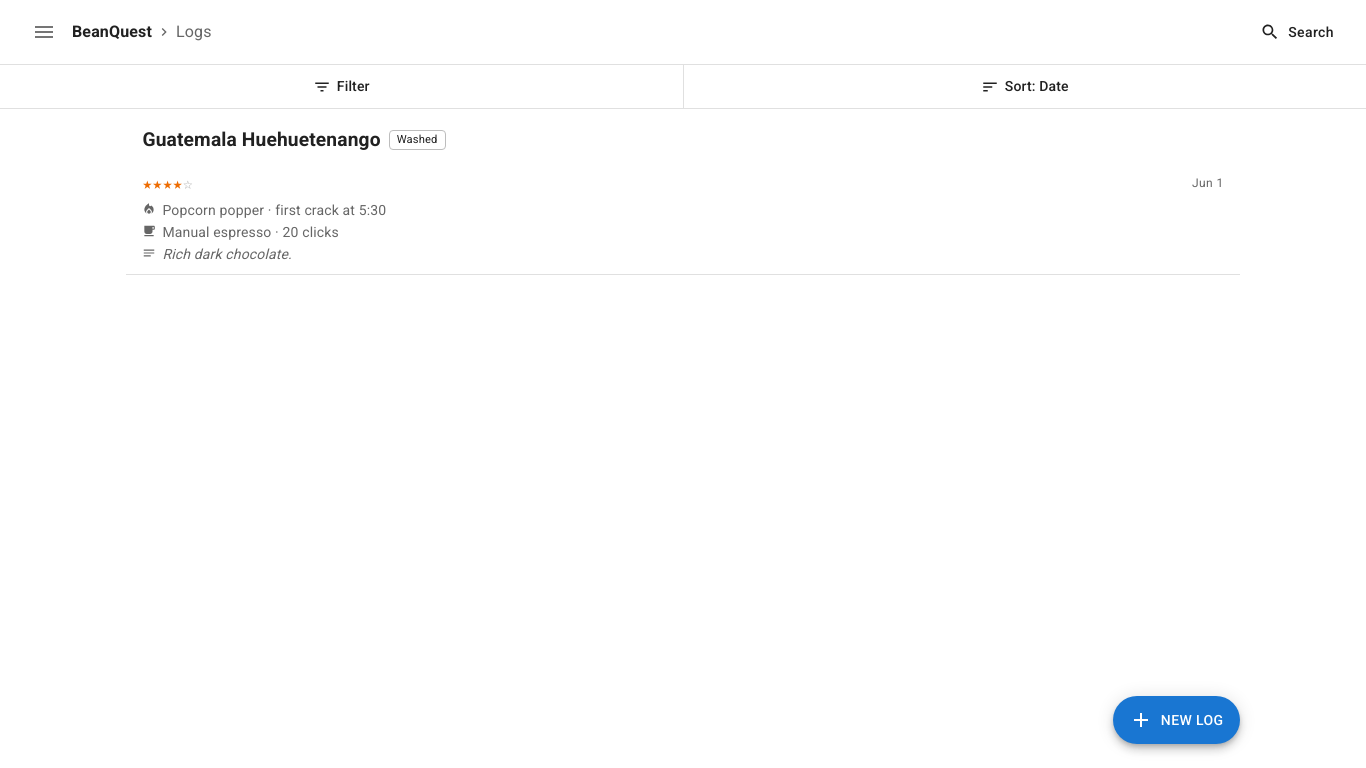
Test: LogsPage › creates a log via the form and shows it in the list
Expected: the heading "Guatemala Huehuetenango" is shown, top-left (142, 125), bottom-right (381, 156)
Click the button labelled "New log". click: (1176, 720)
box: top-left (1113, 696), bottom-right (1240, 744)
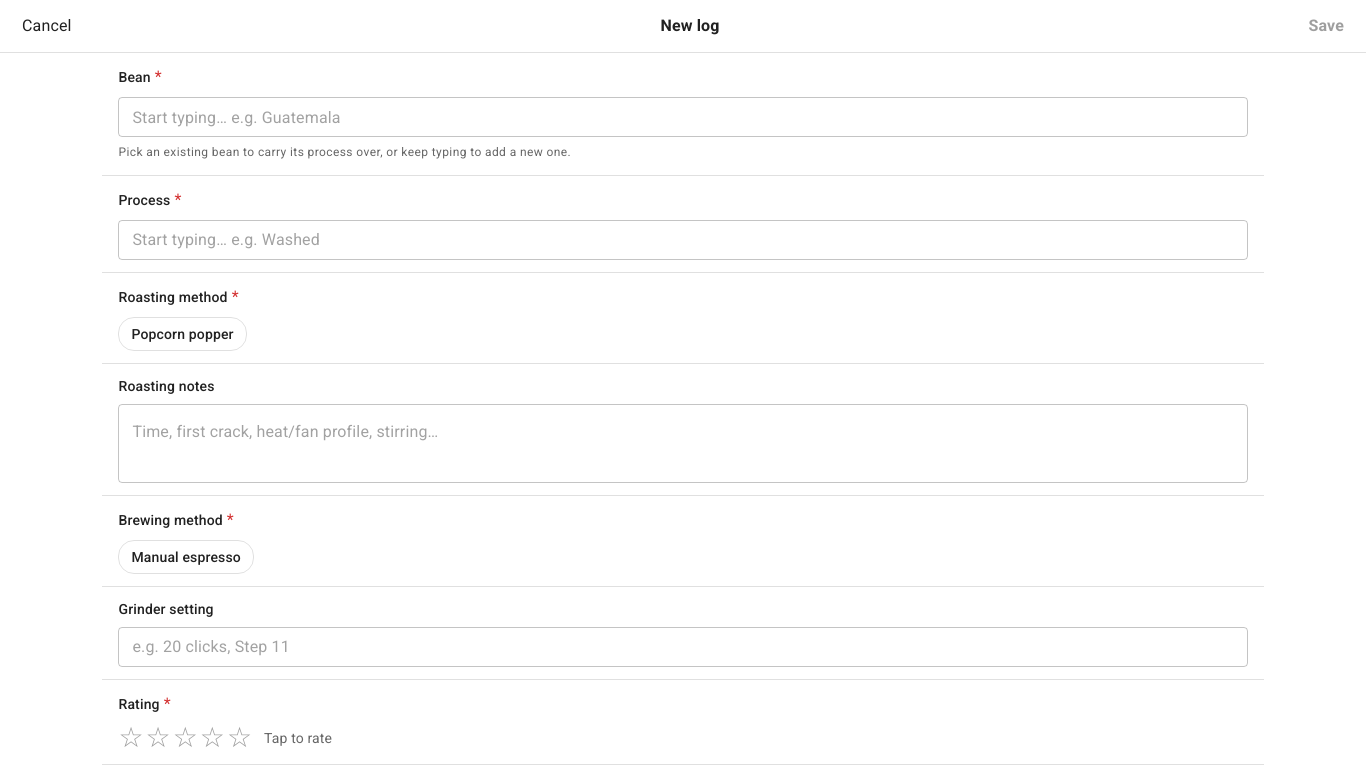
Type "Kenya Nyeri AA" into the dropdown with placeholder "Start typing… e.g. Guatemala". click: (682, 117)
box: top-left (124, 103), bottom-right (1239, 131)
Type "Washed" into the dropdown with placeholder "Start typing… e.g. Washed". click: (682, 240)
box: top-left (124, 226), bottom-right (1239, 254)
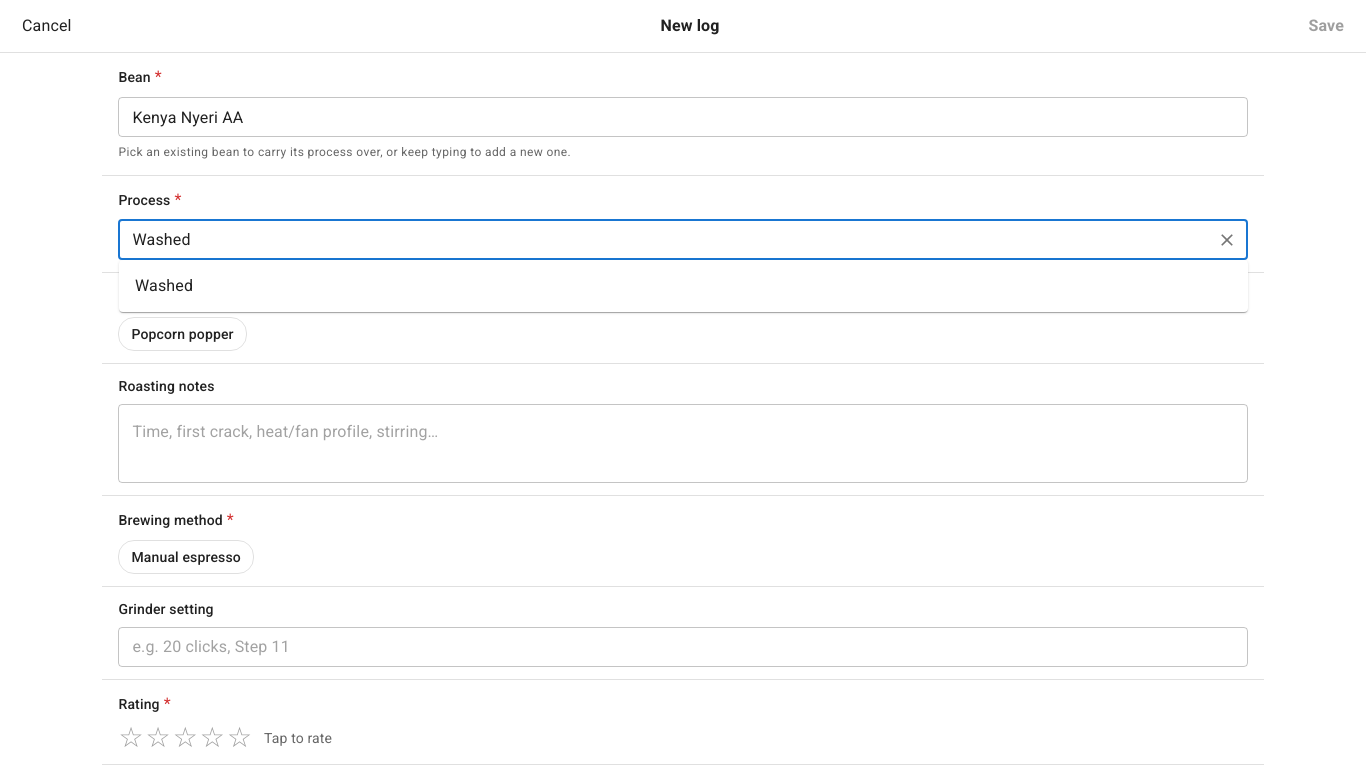
Click the button "Popcorn popper". click: (183, 334)
box: top-left (118, 317), bottom-right (247, 351)
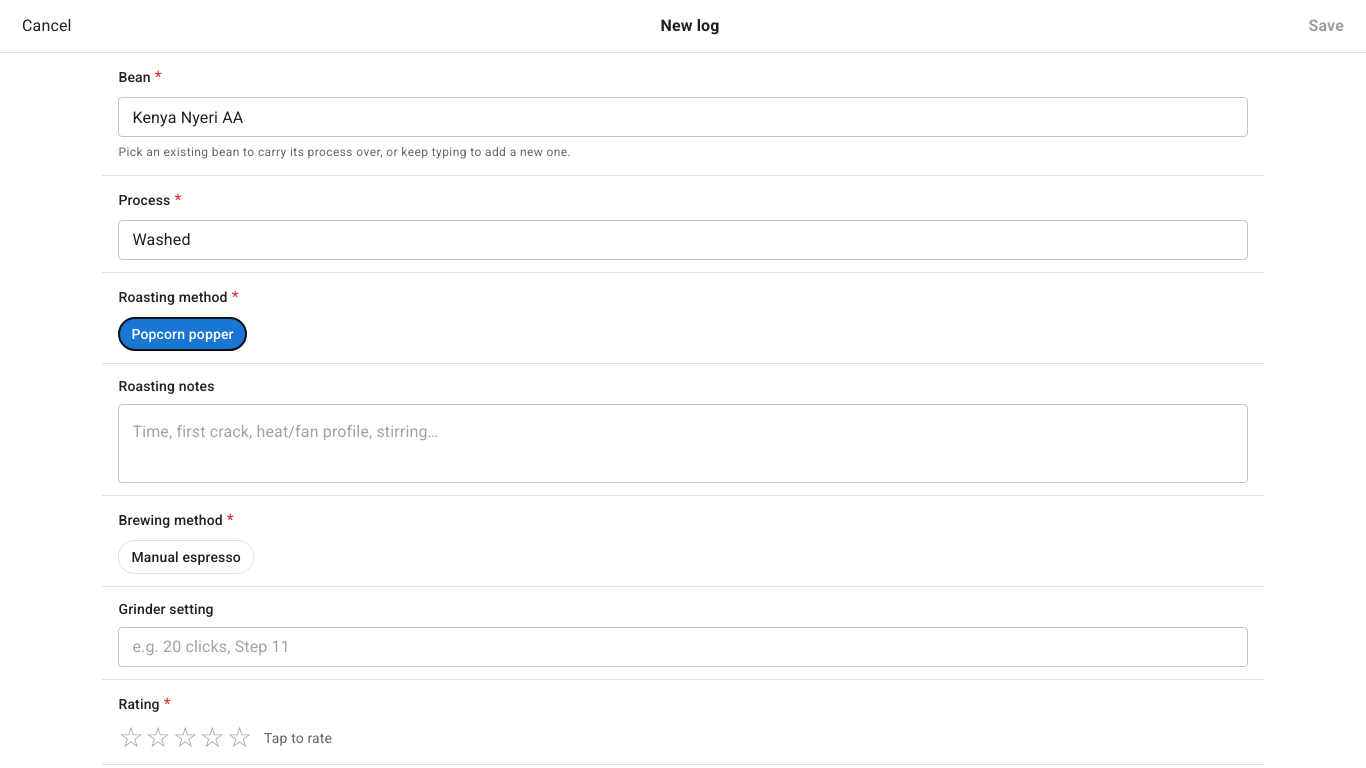
Click the button "Manual espresso". click: (186, 557)
box: top-left (118, 540), bottom-right (254, 574)
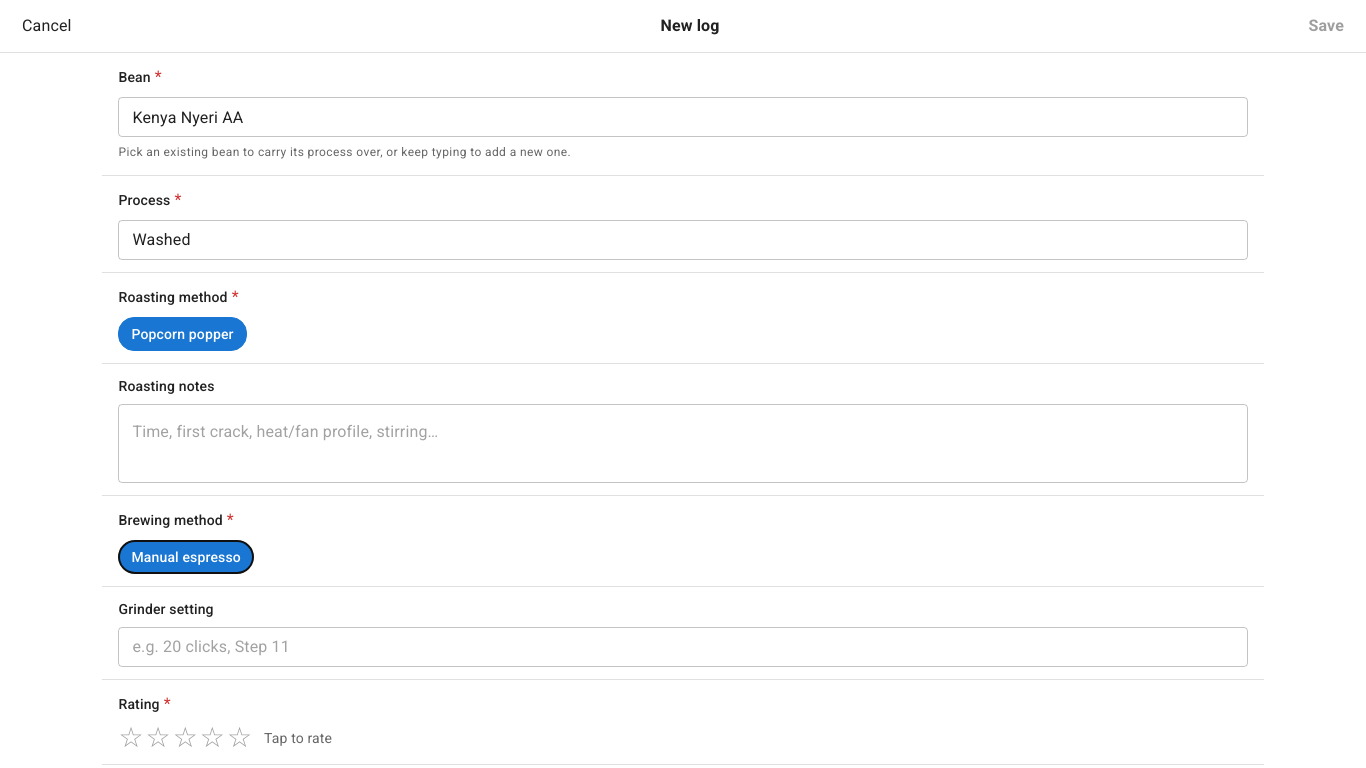
Click the button named "Rate 5". click: (239, 738)
box: top-left (227, 724), bottom-right (252, 752)
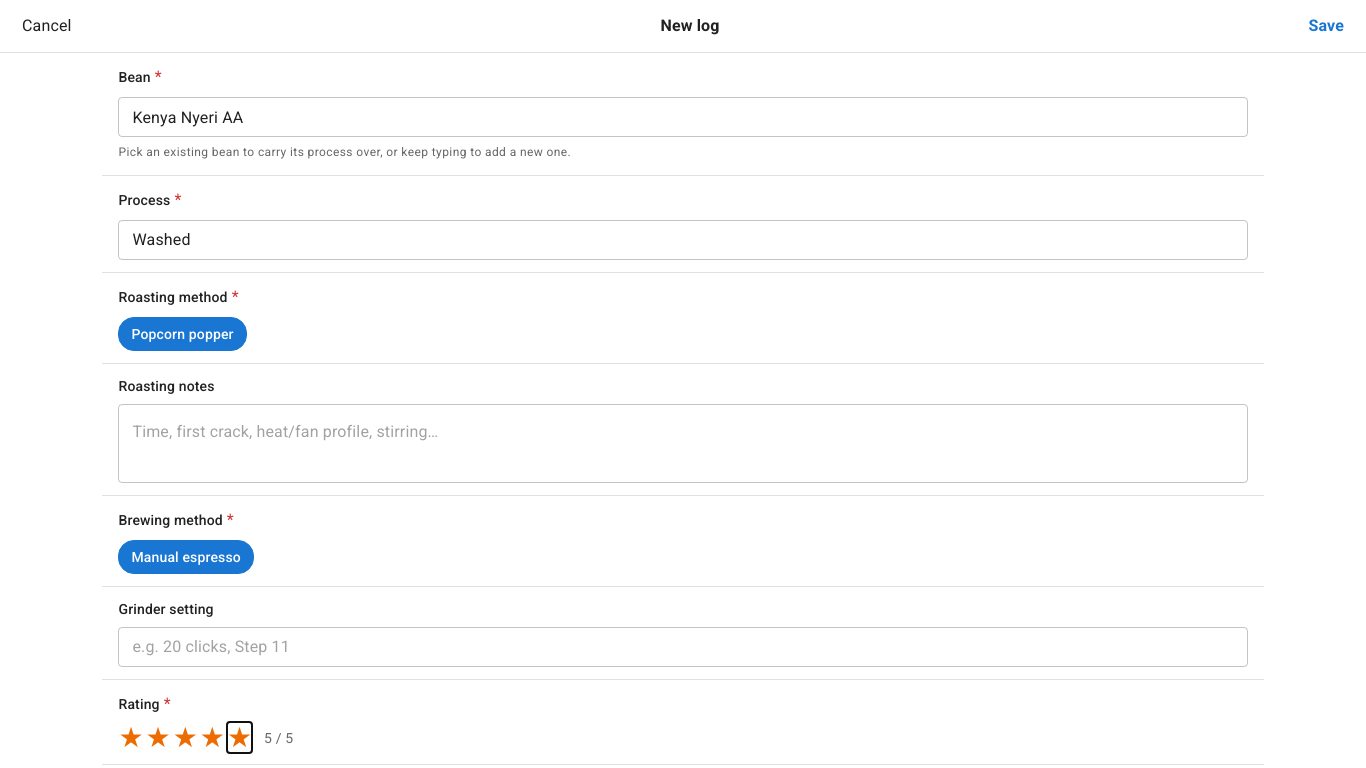
Click the button "Save". click: (1326, 26)
box: top-left (1302, 13), bottom-right (1350, 39)
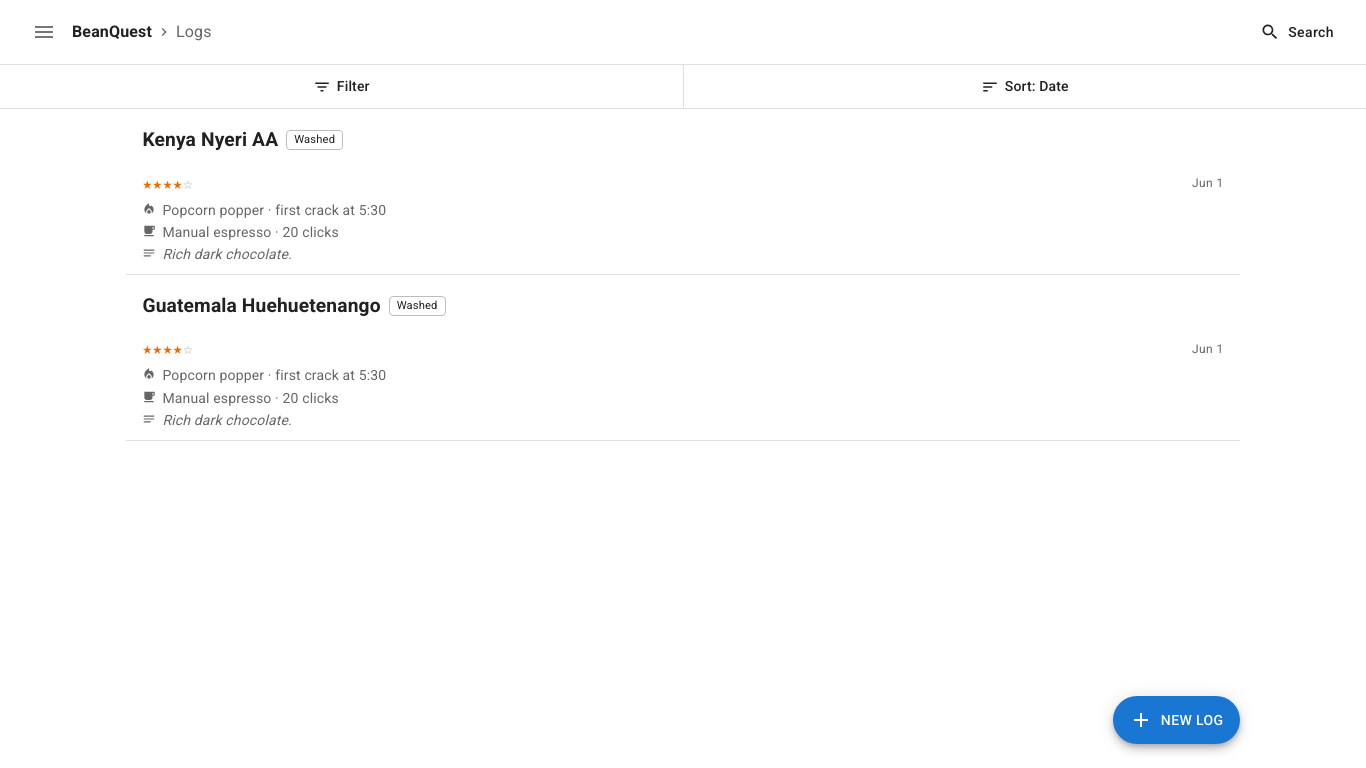
Now the heading "Kenya Nyeri AA" is shown, box top-left (142, 125), bottom-right (278, 156)
